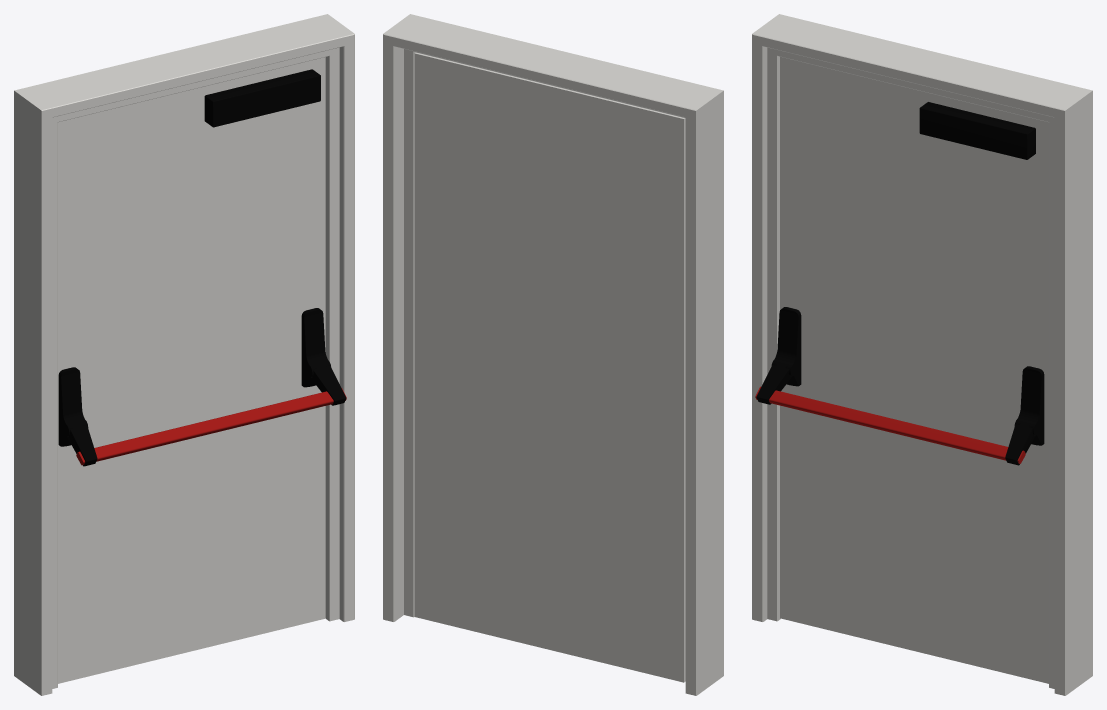
Rendered from fire_door_low_poly.glb.
3 renders of one model, left to right at view 1: azimuth 30°, elevation 25°; view 2: azimuth 150°, elevation 25°; view 3: azimuth 330°, elevation 25°, orthographic.
Parts seen in each view (by area): view 1: PortaAntincendio_DEF_0; view 2: PortaAntincendio_DEF_0; view 3: PortaAntincendio_DEF_0.
Part boxes in pixels (<box>): PortaAntincendio_DEF_0: <box>14,14,354,695</box>; PortaAntincendio_DEF_0: <box>383,14,723,695</box>; PortaAntincendio_DEF_0: <box>752,14,1092,695</box>.
Size of the model in its own units: 1.49 by 2.65 by 0.3917.
